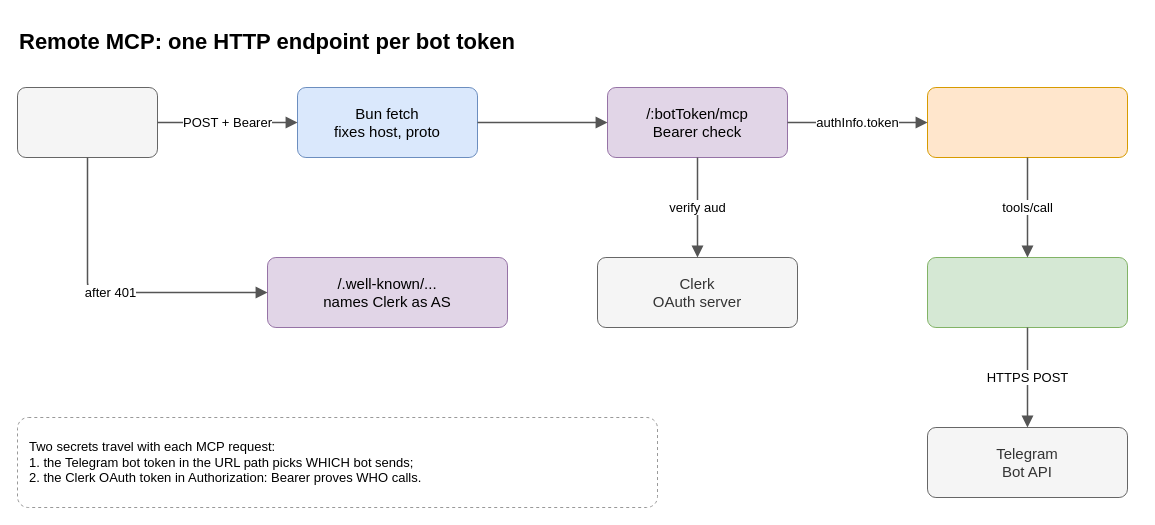
Some shapes in this 1155 by 525 pixel diagram are drawn without their labels. The centre of each missing label's shape, as x and y in pixels:
core sendTelegramMessage: point (1027, 292)
MCP client (remote): point (87, 122)
MCP handler per-request server: point (1027, 122)
